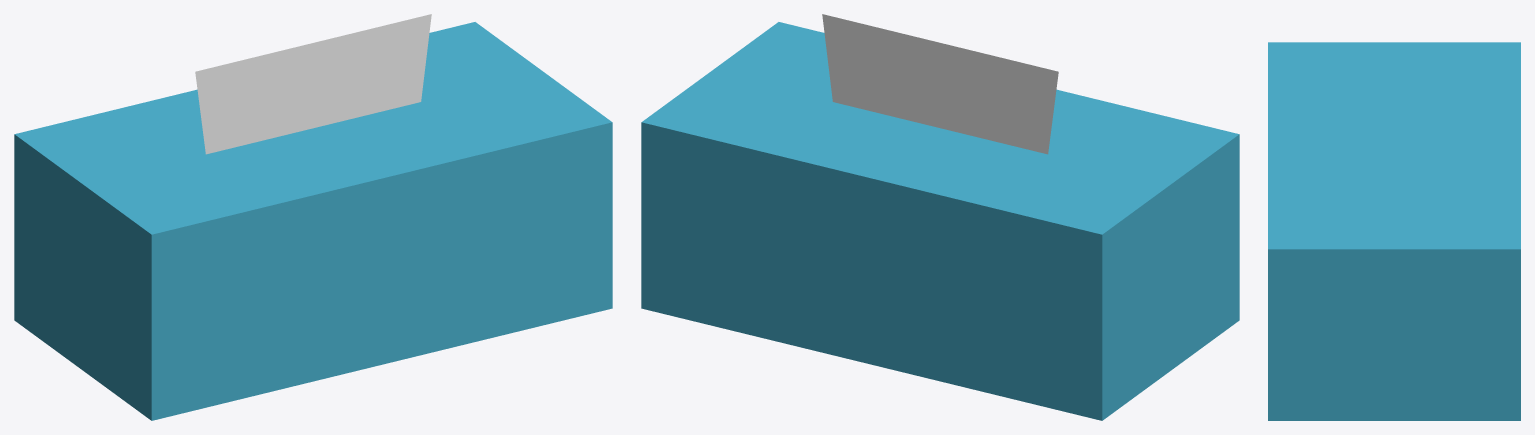
Rendered from Itr_Obj_Tissue_04.FBX.
3 views of the same model, side by side, from view 1: azimuth 30°, elevation 25°; view 2: azimuth 150°, elevation 25°; view 3: azimuth 270°, elevation 25° (orthographic). The views are drawn at different scales.
Parts seen in each view (by area): view 1: Itr_Obj_Tissue_04; view 2: Itr_Obj_Tissue_04; view 3: Itr_Obj_Tissue_04.
Boxes of the visible parts, bbox=[...] form: Itr_Obj_Tissue_04: bbox=[14, 14, 612, 420]; Itr_Obj_Tissue_04: bbox=[641, 14, 1239, 420]; Itr_Obj_Tissue_04: bbox=[1268, 42, 1520, 420].
Bounding box in the file's own units: 16.29 × 9.18 × 8.4.
